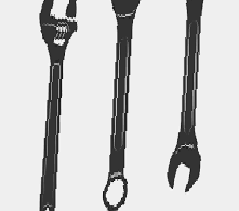Wrench: (95, 4, 146, 211), (28, 1, 69, 211), (165, 1, 205, 189)
